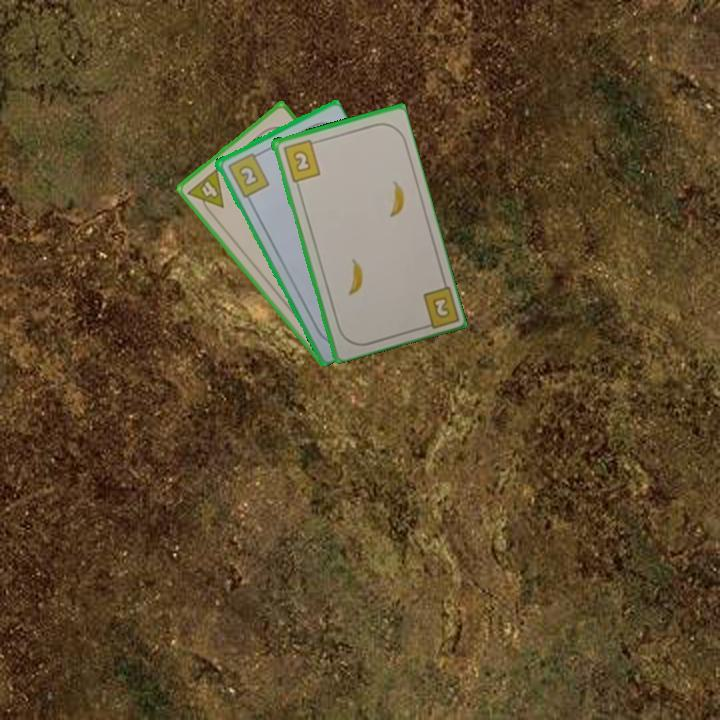2b: (224, 149, 272, 200), (416, 281, 460, 332), (279, 136, 323, 184)
4p: (184, 165, 227, 219)
